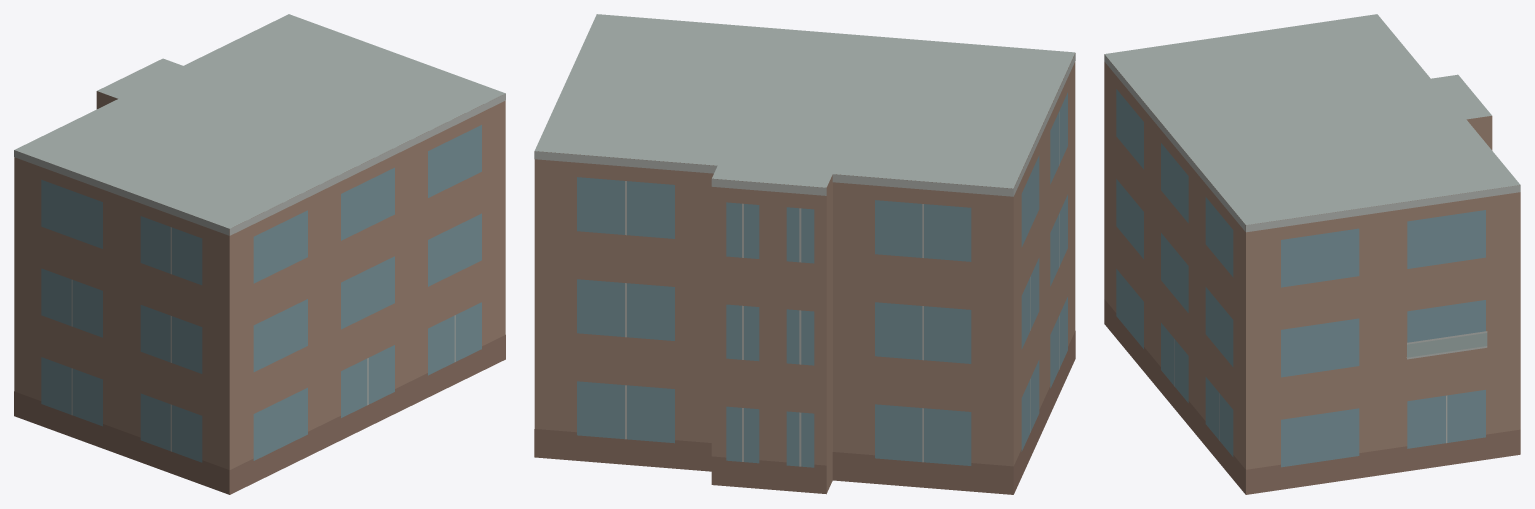
The model's file is survey-upis-32623707.glb.
3 renders of one model, left to right at view 1: azimuth 30°, elevation 25°; view 2: azimuth 150°, elevation 25°; view 3: azimuth 270°, elevation 25°, orthographic. The views are drawn at different scales.
Parts seen in each view (by area): view 1: survey-upis-32623707.tmp; view 2: survey-upis-32623707.tmp; view 3: survey-upis-32623707.tmp.
Part boxes in pixels (<box>): survey-upis-32623707.tmp: <box>14,14,505,494</box>; survey-upis-32623707.tmp: <box>534,14,1075,494</box>; survey-upis-32623707.tmp: <box>1104,14,1520,494</box>.
Bounding box in the file's own units: 15.37 × 9.15 × 12.81.
